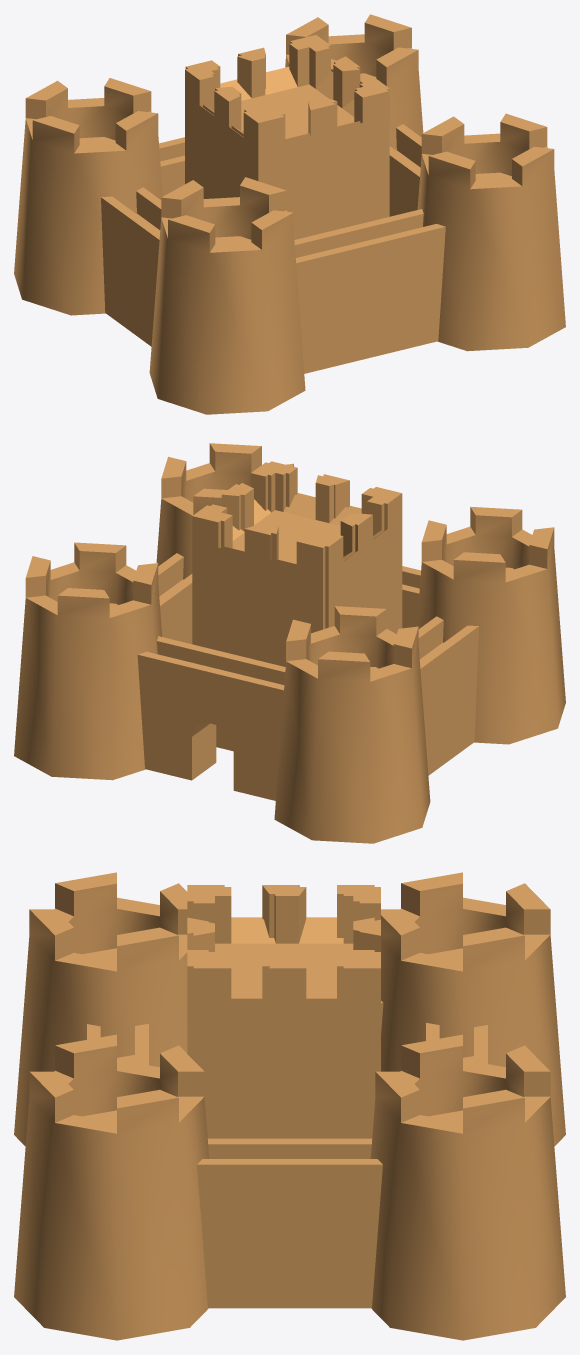
Rendered from Sandcastle_01.fbx.
The picture shows the model from 3 angles, top to bottom: view 1: azimuth 30°, elevation 25°; view 2: azimuth 150°, elevation 25°; view 3: azimuth 270°, elevation 25°; orthographic projection. The views are drawn at different scales.
Parts seen in each view (by area): view 1: Sandcastle_01, Sandcastle_01_Tower_02; view 2: Sandcastle_01, Sandcastle_01_Tower_02; view 3: Sandcastle_01, Sandcastle_01_Tower_02.
Part boxes in pixels (x1,y1,x2,y2): Sandcastle_01: (14, 14, 565, 414); Sandcastle_01_Tower_02: (185, 42, 388, 239); Sandcastle_01: (14, 443, 565, 843); Sandcastle_01_Tower_02: (199, 461, 402, 633); Sandcastle_01: (14, 872, 565, 1340); Sandcastle_01_Tower_02: (187, 885, 374, 1059).
Bounding box in the file's own units: 0.57 × 0.3064 × 0.5335.
